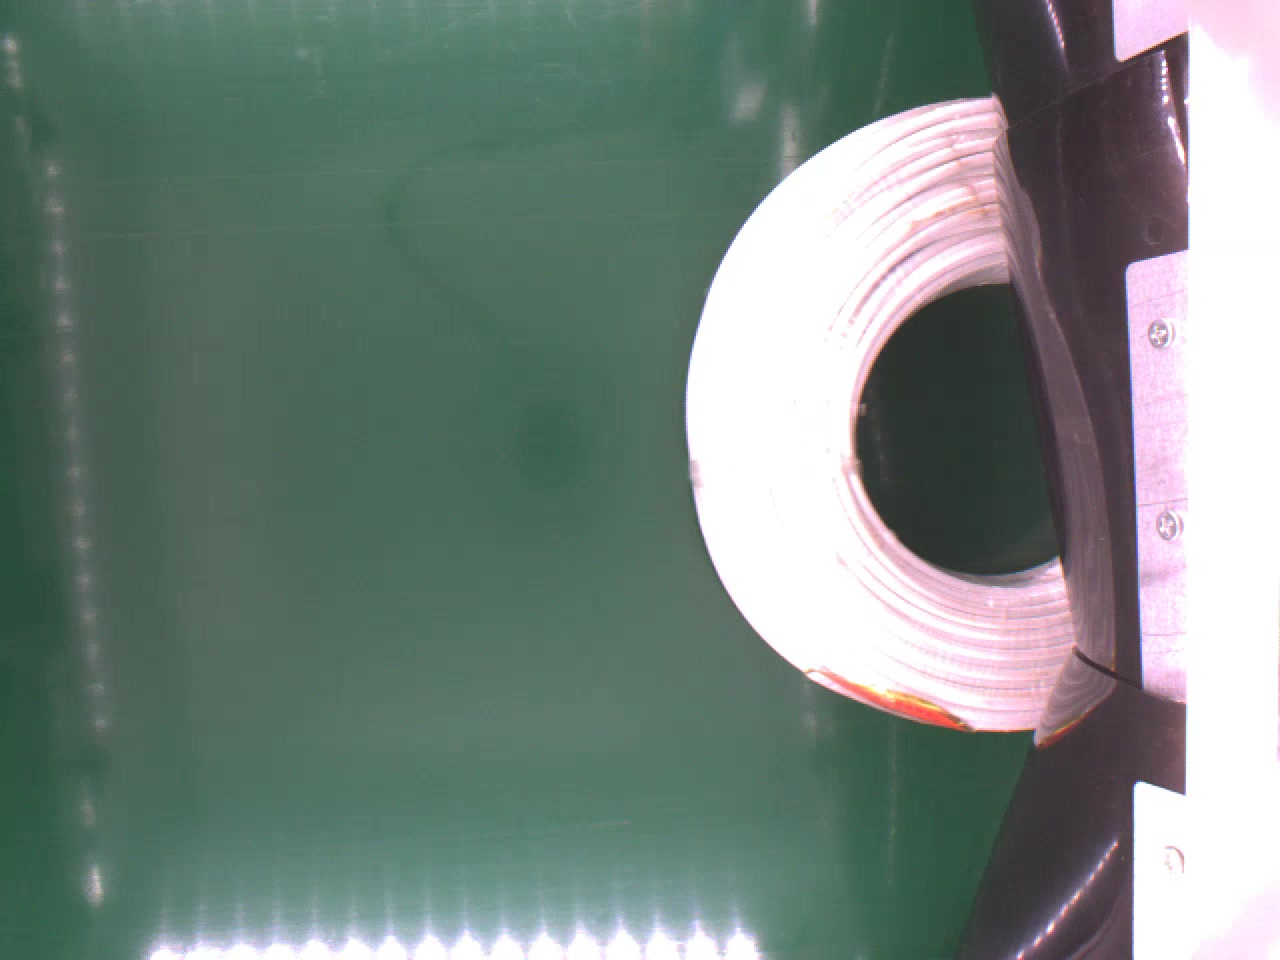white: (679, 96, 1076, 742)
